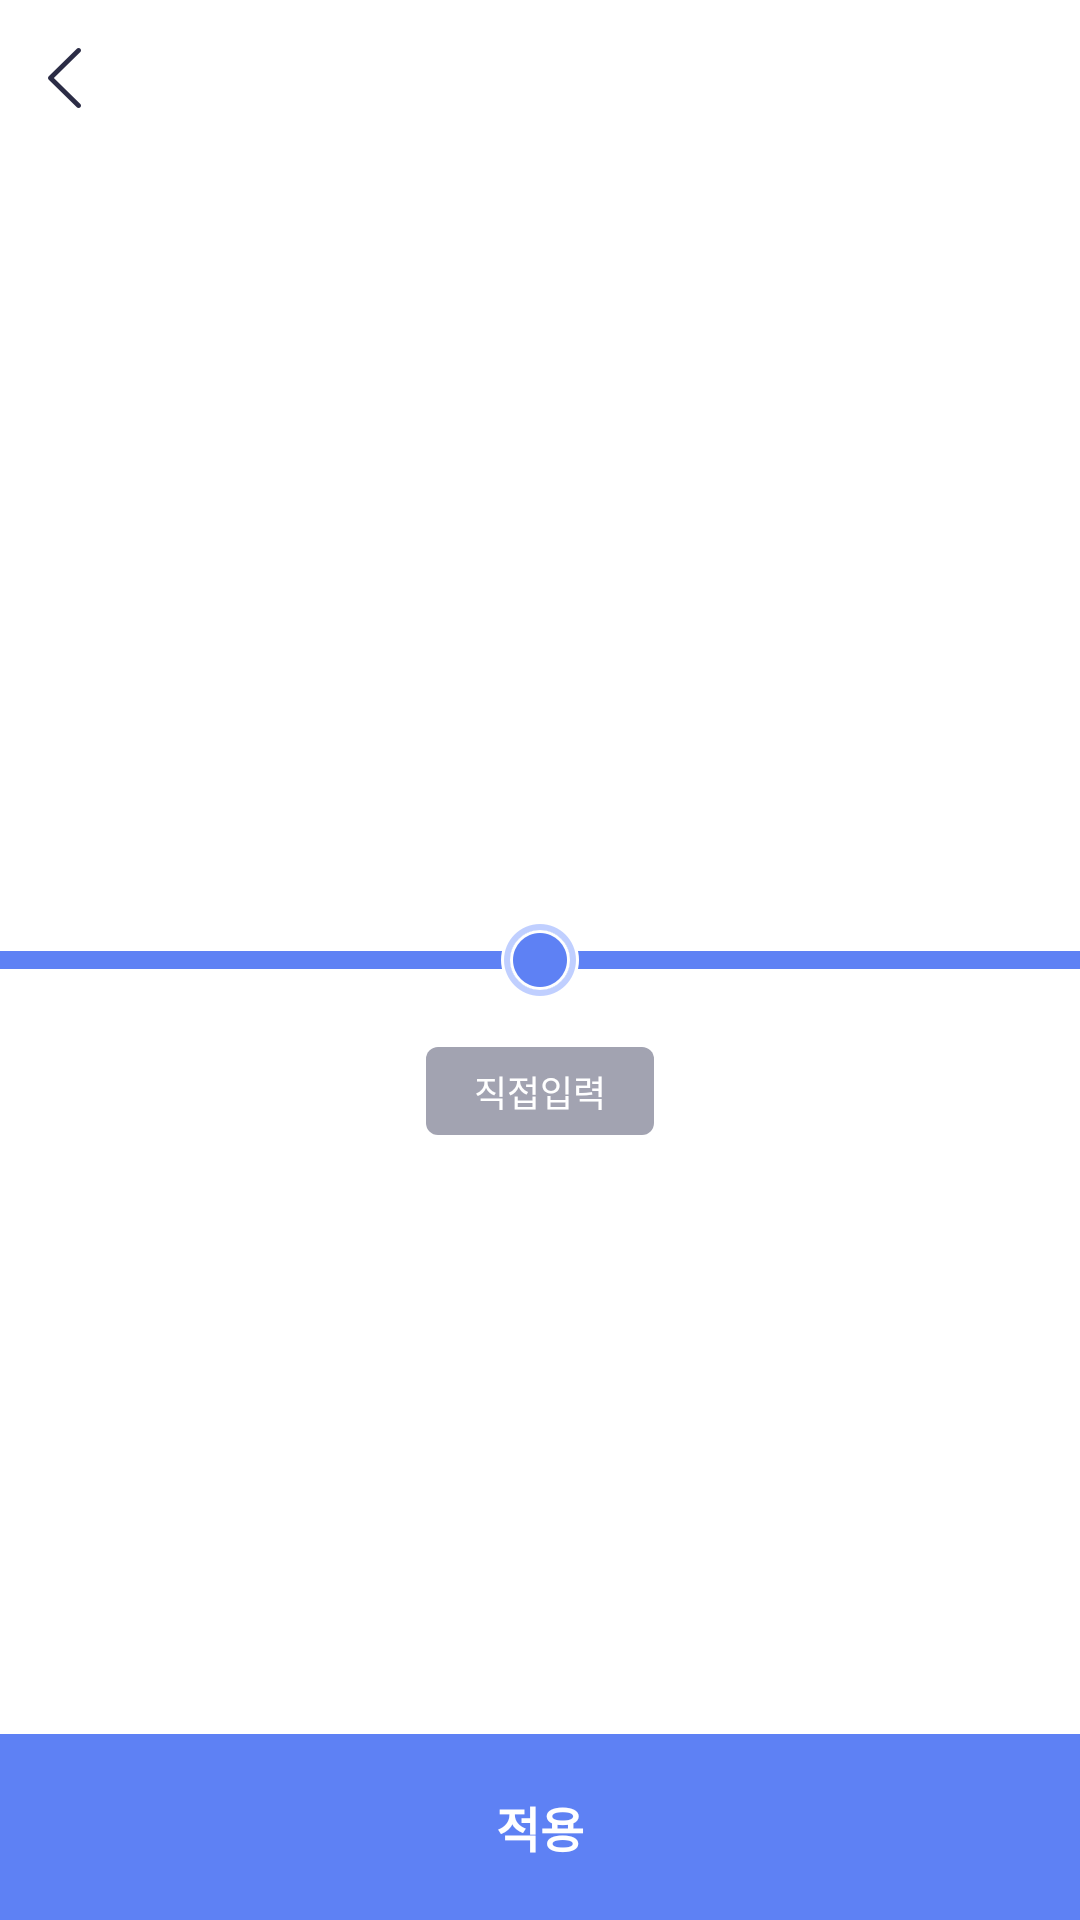

Icons on this 1080*1920 Android screen, each with the point to tap as point (x, y):
arrow left navy: point (64, 78)
bar circle: point (540, 960)
